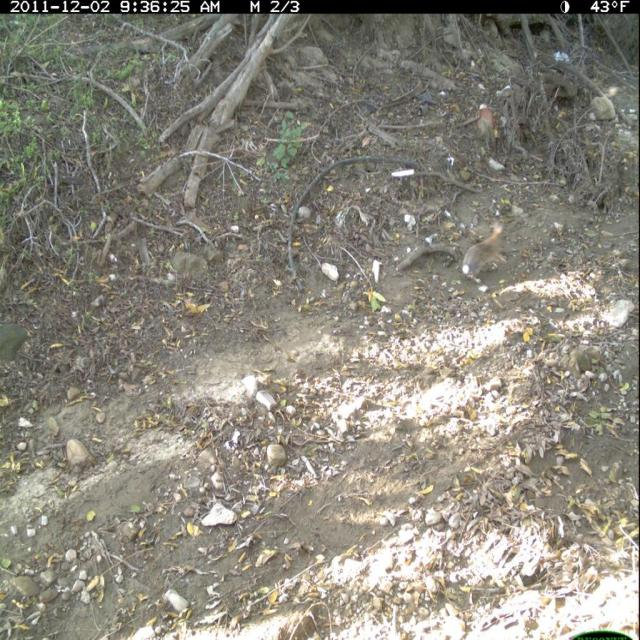rabbit: (461, 218, 510, 286)
